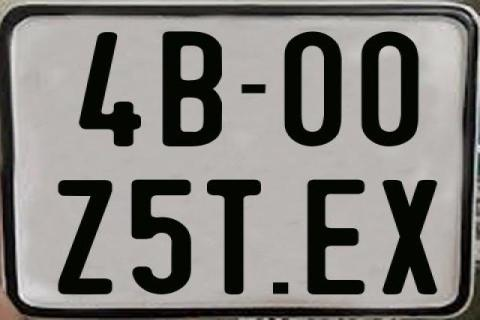0: (76, 31, 143, 147), (130, 180, 195, 298), (284, 29, 345, 147), (361, 30, 419, 148)
B: (160, 29, 225, 147)
E: (307, 179, 368, 297)
T: (207, 177, 263, 296)
X: (381, 180, 441, 299)
Z: (59, 177, 118, 297)
